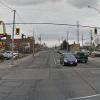Car: (56, 47, 79, 69)
